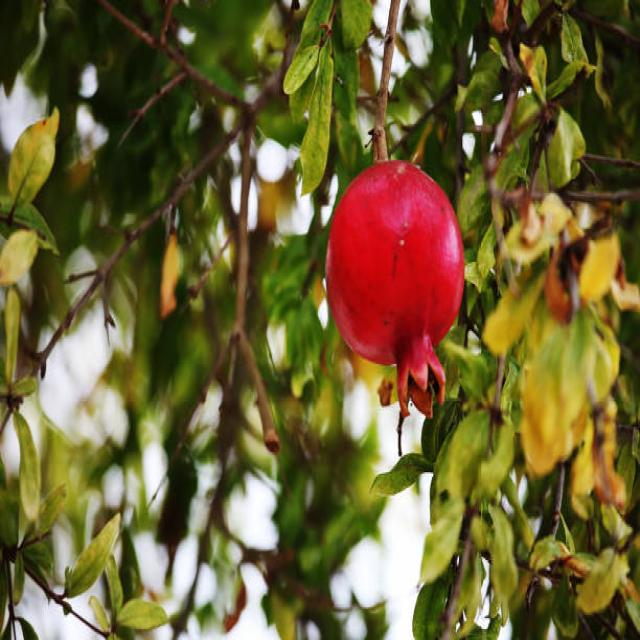Ripe: (324, 153, 473, 434)
